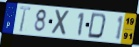1: (115, 15, 124, 41), (76, 13, 85, 38)
8: (33, 9, 47, 34)
D: (86, 12, 108, 40)
T: (18, 5, 32, 33)
X: (51, 8, 72, 37)
